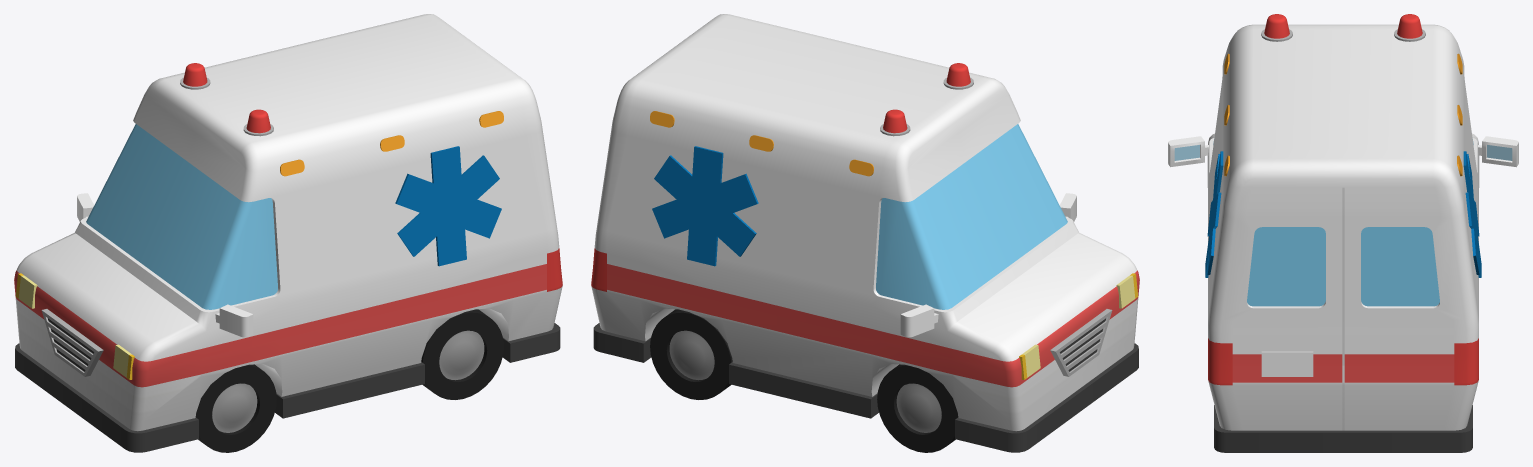
The model's file is ambulance.fbx.
3 renders of one model, left to right at view 1: azimuth 30°, elevation 25°; view 2: azimuth 150°, elevation 25°; view 3: azimuth 270°, elevation 25°, orthographic. The views are drawn at different scales.
Parts seen in each view (by area): view 1: Cube.626; view 2: Cube.626; view 3: Cube.626.
Part boxes in pixels (x1,y1,x2,y2): Cube.626: [14, 14, 562, 452]; Cube.626: [591, 14, 1139, 452]; Cube.626: [1168, 14, 1518, 452].
Size of the model in its own units: 204 by 140 by 137.
Materials: 1 (1 with a texture image).
